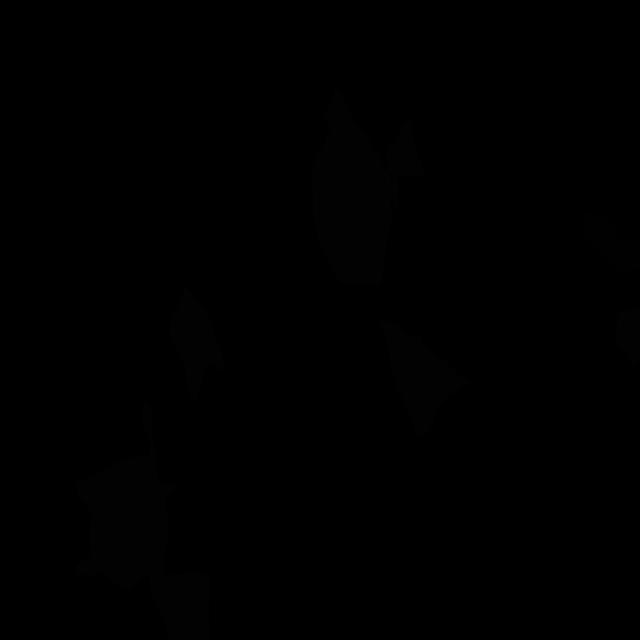cardboard: (76, 399, 210, 640), (312, 88, 392, 285), (377, 320, 472, 437), (168, 284, 226, 406), (386, 120, 426, 211), (616, 259, 640, 367)
rigid_plastic: (583, 211, 640, 273)
